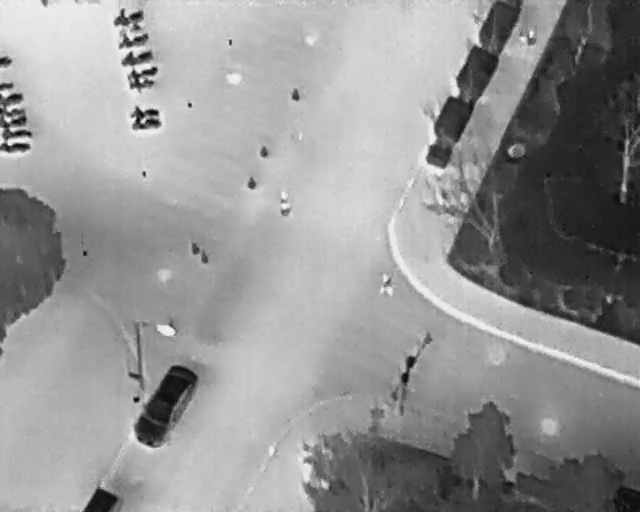Bicycle: (109, 3, 148, 29), (113, 28, 151, 51), (118, 44, 156, 67), (124, 58, 159, 82), (127, 98, 161, 122), (127, 113, 163, 134), (125, 71, 158, 93), (0, 128, 33, 142), (0, 141, 32, 155), (0, 91, 25, 107), (0, 116, 28, 129), (0, 104, 26, 117), (0, 54, 14, 68), (0, 79, 14, 92)
Car: (124, 356, 203, 458), (81, 484, 123, 510)
Person: (278, 192, 293, 217), (380, 272, 393, 297), (528, 30, 537, 50), (519, 29, 528, 45)
